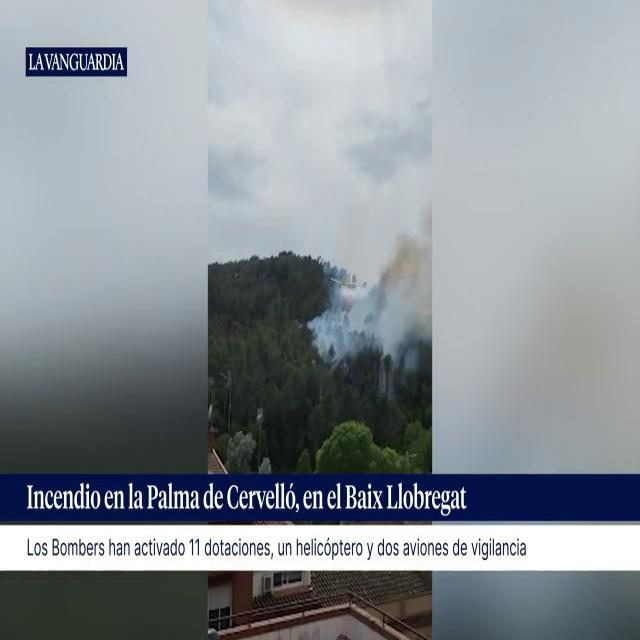Smoke: (312, 185, 432, 378)
